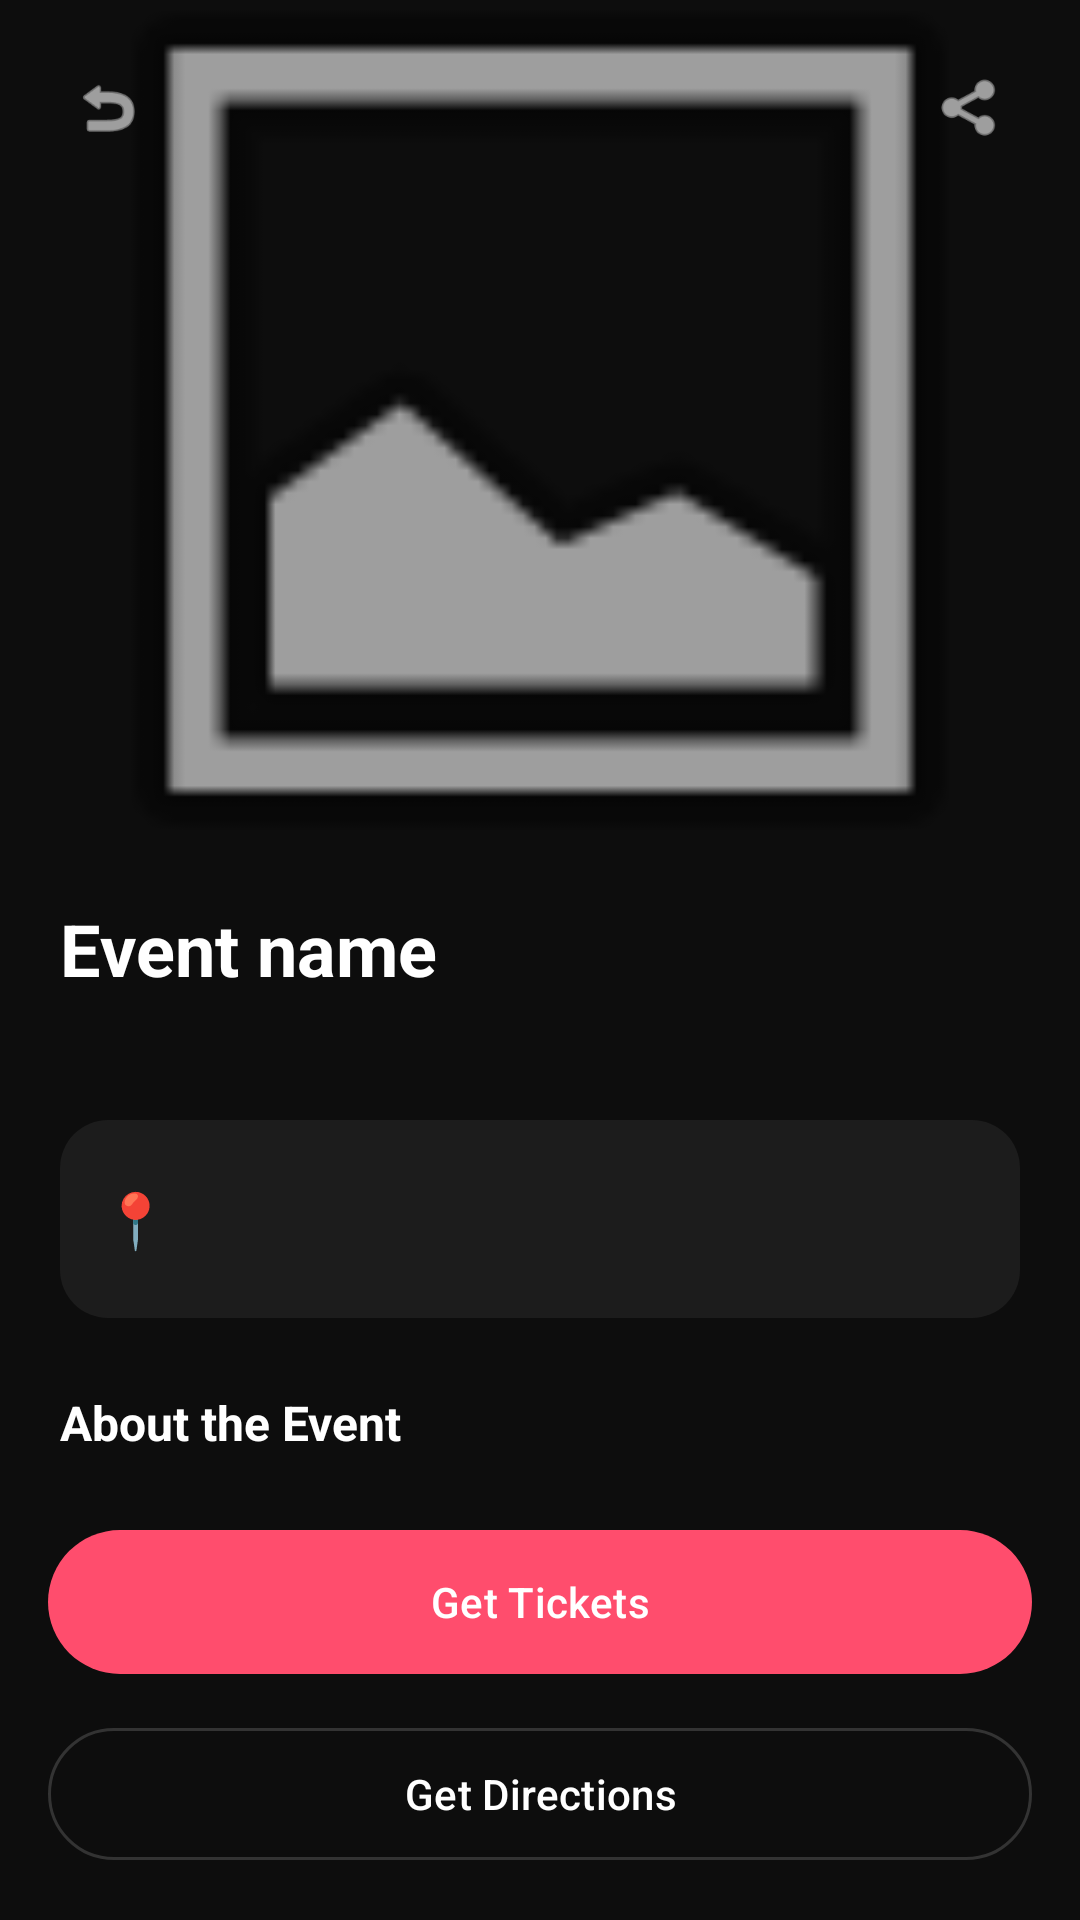

Where icons sit on this 1080px x 1920px app screen, as bbox=(x1, y1, x2, y2):
revert: bbox=(83, 85, 135, 132)
share: bbox=(941, 79, 995, 136)
